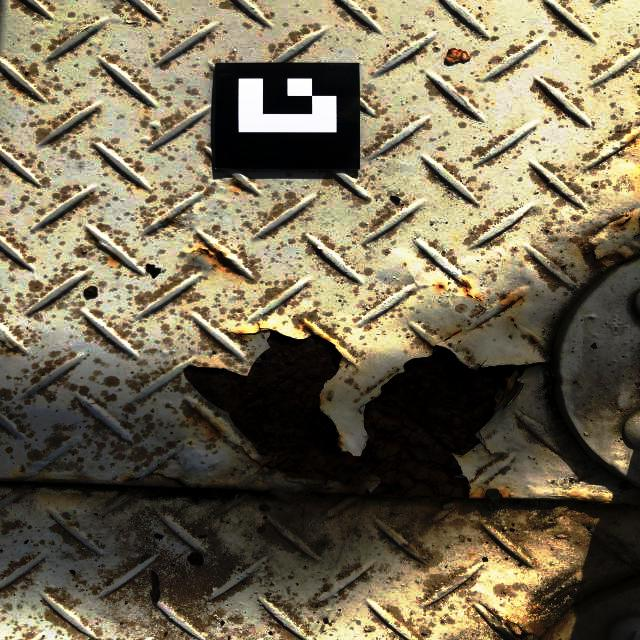Corrosion: (184, 332, 525, 498), (581, 244, 607, 264), (195, 246, 227, 262), (616, 215, 633, 229)
